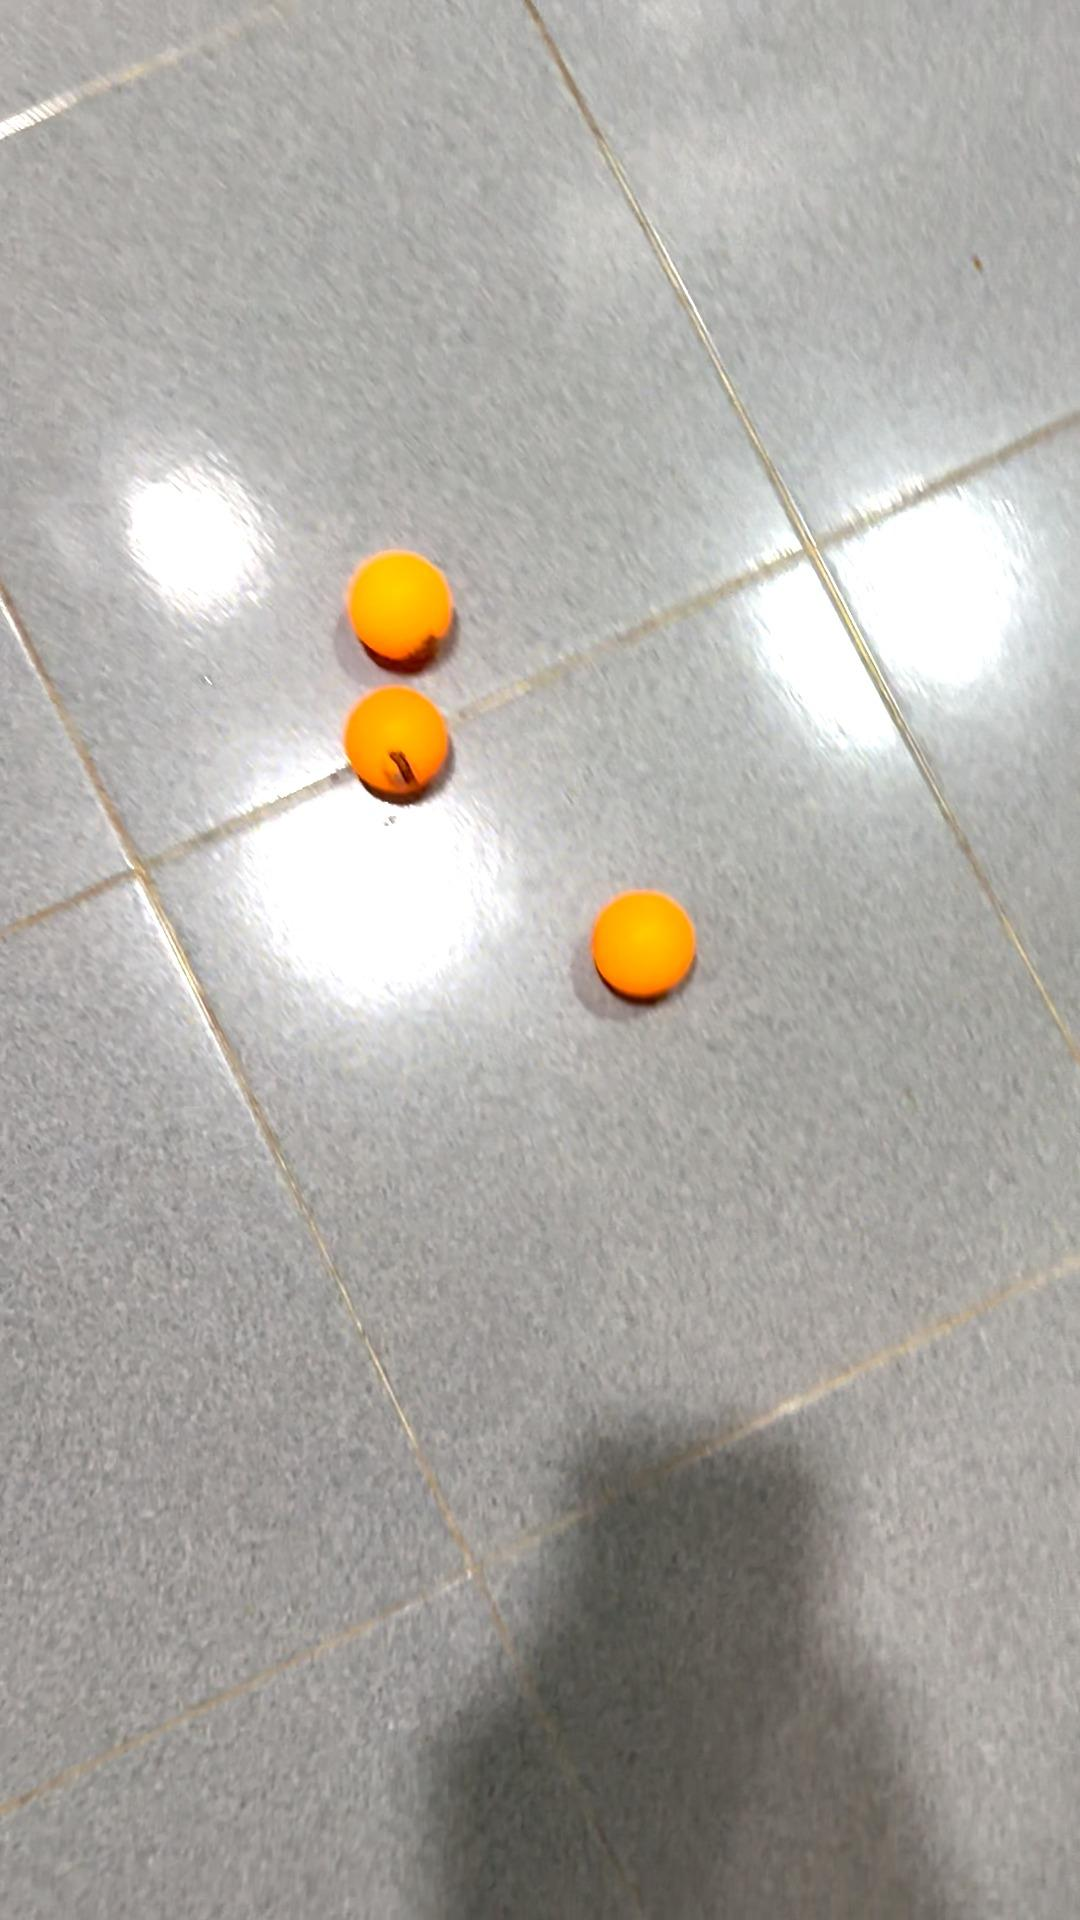oball: (334, 551, 473, 680), (581, 884, 708, 1015), (343, 686, 457, 806)
